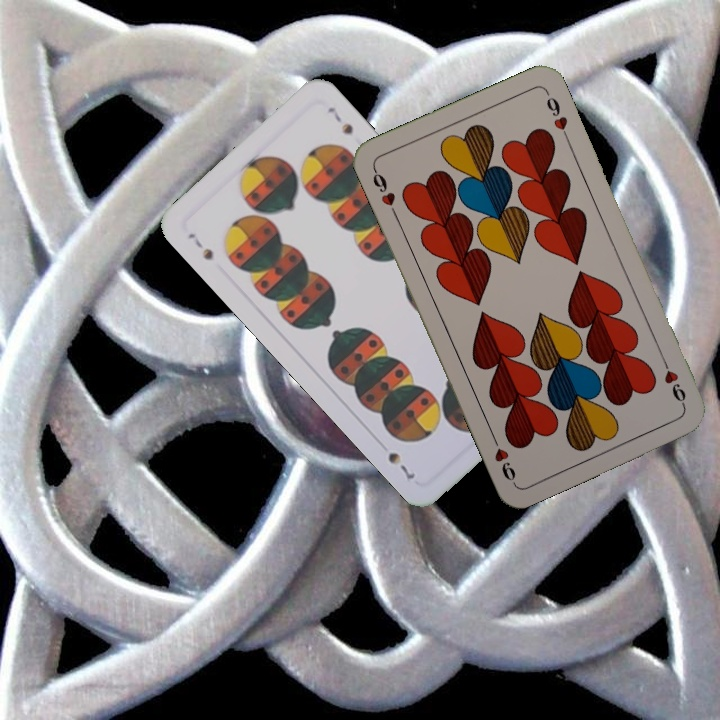H9: (368, 164, 400, 220), (658, 353, 689, 410)
S7: (183, 228, 216, 263)
